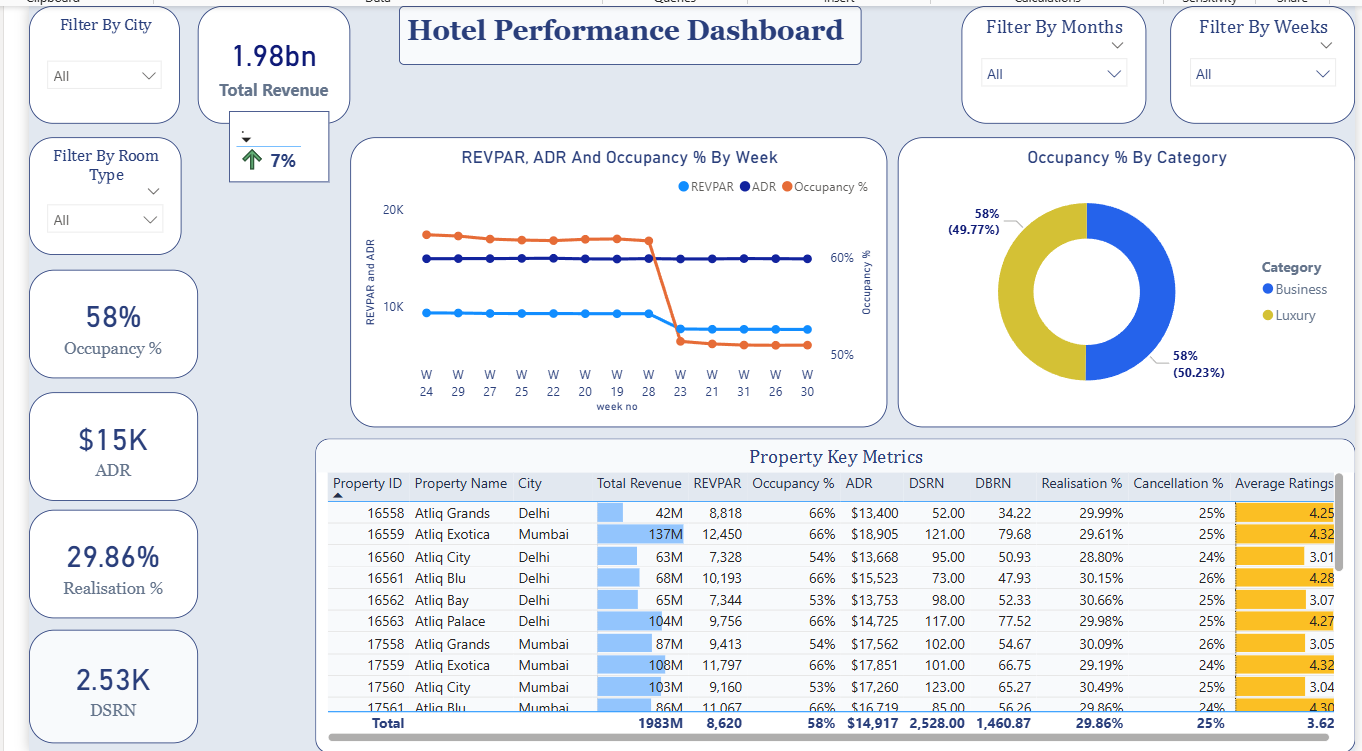

This screenshot's page, from the dashboard's own definition file:
{"tool":"powerbi","page":{"name":"Hotel Dashboard","canvas":[1280,720],"ordinal":0},"visuals":[{"type":"slicer","title":"Filter By Weeks","fields":{"Values":["Dim_Dates.week no"]},"box":[1101.5,0,178.6,113.4],"z":0},{"type":"tableEx","title":"Property Key Metrics","fields":{"Values":["Dim_Hotels.property_id","Dim_Hotels.property_name","Dim_Hotels.city","Measures Table.Total Revenue","Measures Table.REVPAR (revenue per available room)","Measures Table.Occupancy %","Measures Table.ADR (Average Daily Rate)","Measures Table.DSRN (Daily Sellable Room Night)","Measures Table.DBRN (Daily Booked Room Per Night)","Measures Table.Realisation %","Measures Table.Cancellation %","Avg(Fact_Bookings.ratings_given)"]},"box":[276.3,417.4,1003.8,304],"z":1000},{"type":"slicer","title":"Filter By City","fields":{"Values":["Dim_Hotels.city"]},"box":[0,0,146,113.4],"z":2000},{"type":"slicer","title":"Filter By Room Type","fields":{"Values":["Dim_Rooms.room_class"]},"box":[0,126.7,147.2,113.4],"z":3000},{"type":"card","fields":{"Values":["Measures Table.Total Revenue"]},"box":[162.9,0,147.2,113.4],"z":4000},{"type":"tableEx","fields":{"Values":["Measures Table.Revenue WOW Change %"]},"box":[193,101.3,96.5,68.8],"z":5000},{"type":"donutChart","title":"Occupancy % By Category","fields":{"Category":["Dim_Hotels.category"],"Y":["Measures Table.Occupancy %"]},"box":[838.5,126.7,441.6,279.9],"z":6000},{"type":"lineChart","title":"REVPAR, ADR And Occupancy % By Week","fields":{"Category":["Dim_Dates.week no"],"Y":["Measures Table.REVPAR","Measures Table.ADR"],"Y2":["Measures Table.Occupancy %"]},"box":[310.1,126.7,518.8,279.9],"z":7000},{"type":"card","fields":{"Values":["Measures Table.Occupancy %"]},"box":[0,254.6,162.9,105],"z":8000},{"type":"card","fields":{"Values":["Measures Table.ADR"]},"box":[0,372.8,162.9,105],"z":9000},{"type":"card","fields":{"Values":["Measures Table.Realisation %"]},"box":[0,486.2,162.9,105],"z":10000},{"type":"card","fields":{"Values":["Measures Table.DSRN"]},"box":[0,602,162.9,109.8],"z":11000},{"type":"textbox","box":[357.1,0,446.4,56.7],"z":12000},{"type":"slicer","title":"Filter By Months","fields":{"Values":["Dim_Dates.Month Name"]},"box":[900,0,178.6,113.4],"z":13000}]}

Visuals, with their boxes on the page's 1280x720 design canvas (x1, y1, x2, y2). These are canvas units, not pixel positions in the 1362x751 screenshot, which may show the page scaled, cropped or inside an application window:
"Filter By Weeks" slicer: [left=1102, top=0, right=1280, bottom=113]
"Property Key Metrics" tableEx: [left=276, top=417, right=1280, bottom=721]
"Filter By City" slicer: [left=0, top=0, right=146, bottom=113]
"Filter By Room Type" slicer: [left=0, top=127, right=147, bottom=240]
card - Measures Table.Total Revenue: [left=163, top=0, right=310, bottom=113]
tableEx - Measures Table.Revenue WOW Change %: [left=193, top=101, right=290, bottom=170]
"Occupancy % By Category" donutChart: [left=838, top=127, right=1280, bottom=407]
"REVPAR, ADR And Occupancy % By Week" lineChart: [left=310, top=127, right=829, bottom=407]
card - Measures Table.Occupancy %: [left=0, top=255, right=163, bottom=360]
card - Measures Table.ADR: [left=0, top=373, right=163, bottom=478]
card - Measures Table.Realisation %: [left=0, top=486, right=163, bottom=591]
card - Measures Table.DSRN: [left=0, top=602, right=163, bottom=712]
textbox: [left=357, top=0, right=804, bottom=57]
"Filter By Months" slicer: [left=900, top=0, right=1079, bottom=113]
